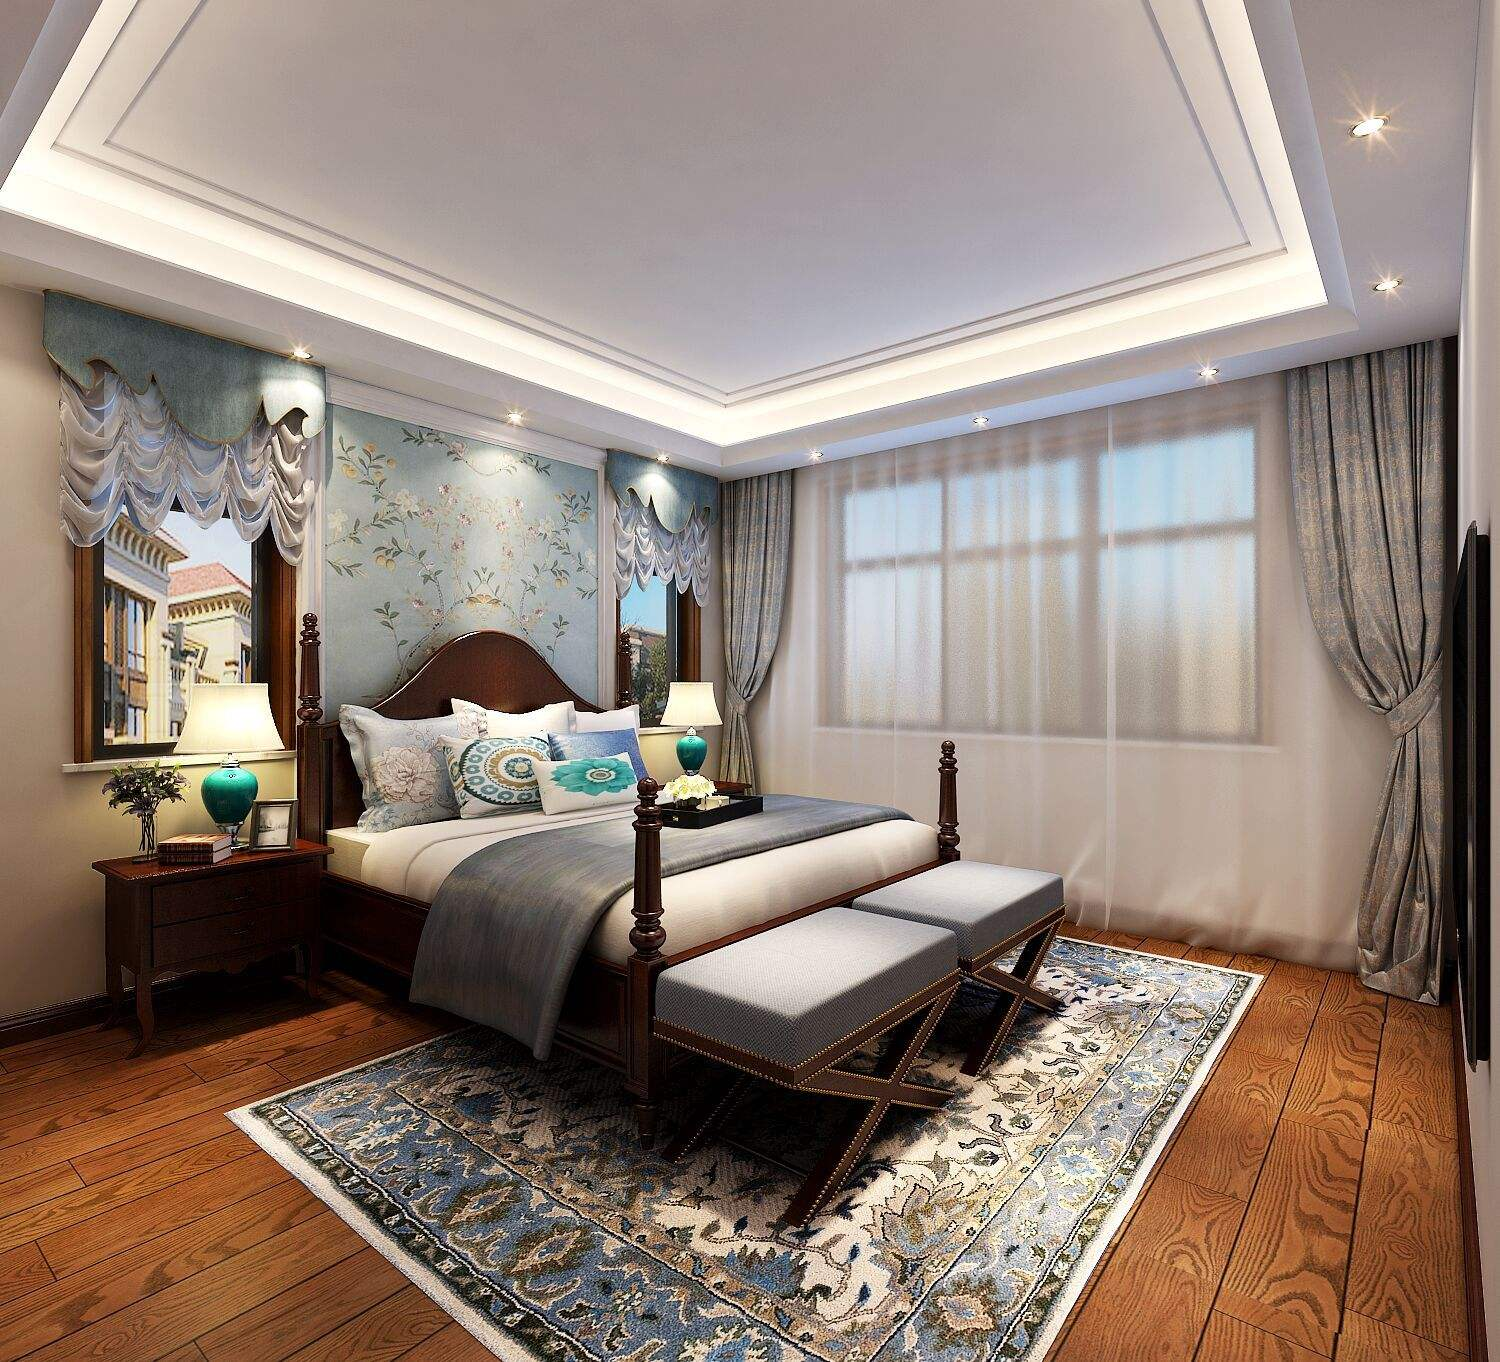床: (348, 789, 1032, 1098)
枕头: (342, 697, 640, 833)
灯: (178, 684, 286, 847), (645, 677, 725, 792), (1335, 105, 1406, 154), (276, 329, 320, 375), (499, 405, 538, 439), (1369, 271, 1412, 301), (806, 437, 832, 477), (1186, 365, 1226, 391), (968, 410, 1001, 435), (651, 451, 673, 473)
